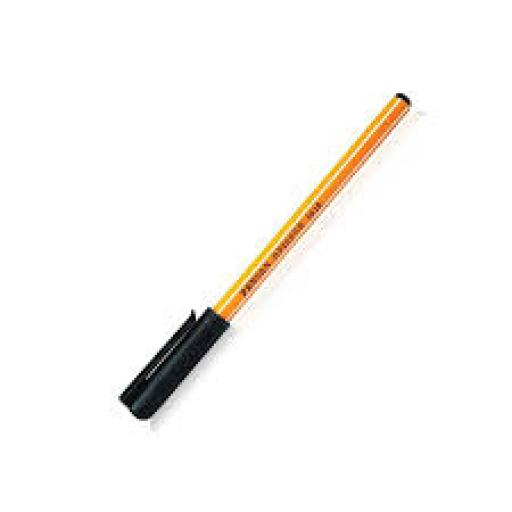tukenmez-kalem: (64, 56, 457, 430)
